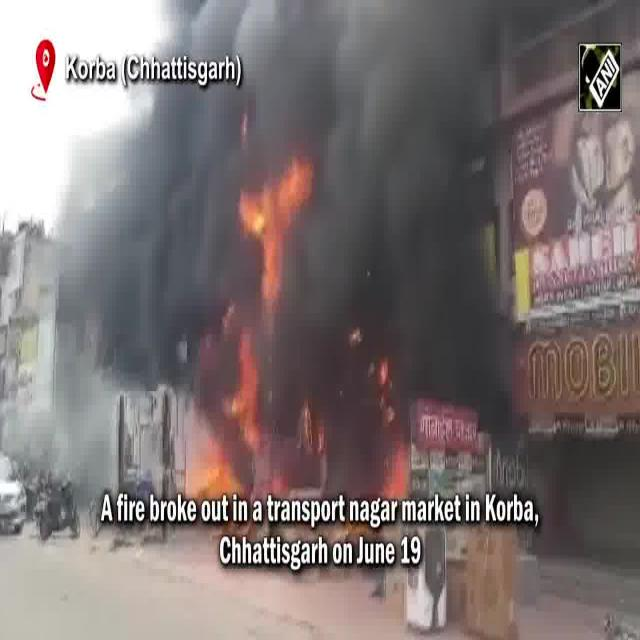smoke: (182, 5, 471, 154), (321, 169, 473, 391), (79, 176, 217, 328)
